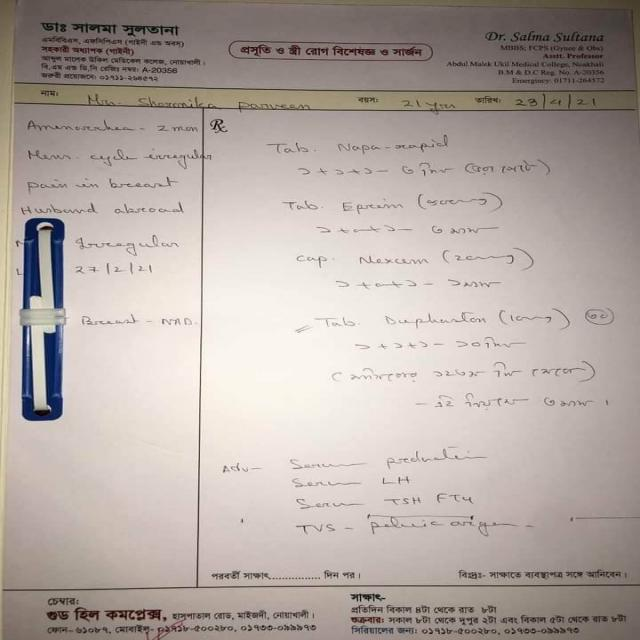Duphaston: (371, 309, 490, 331)
Eprin: (332, 196, 414, 218)
Napa Rapid: (332, 138, 453, 155)
Nexum: (351, 253, 432, 275)
